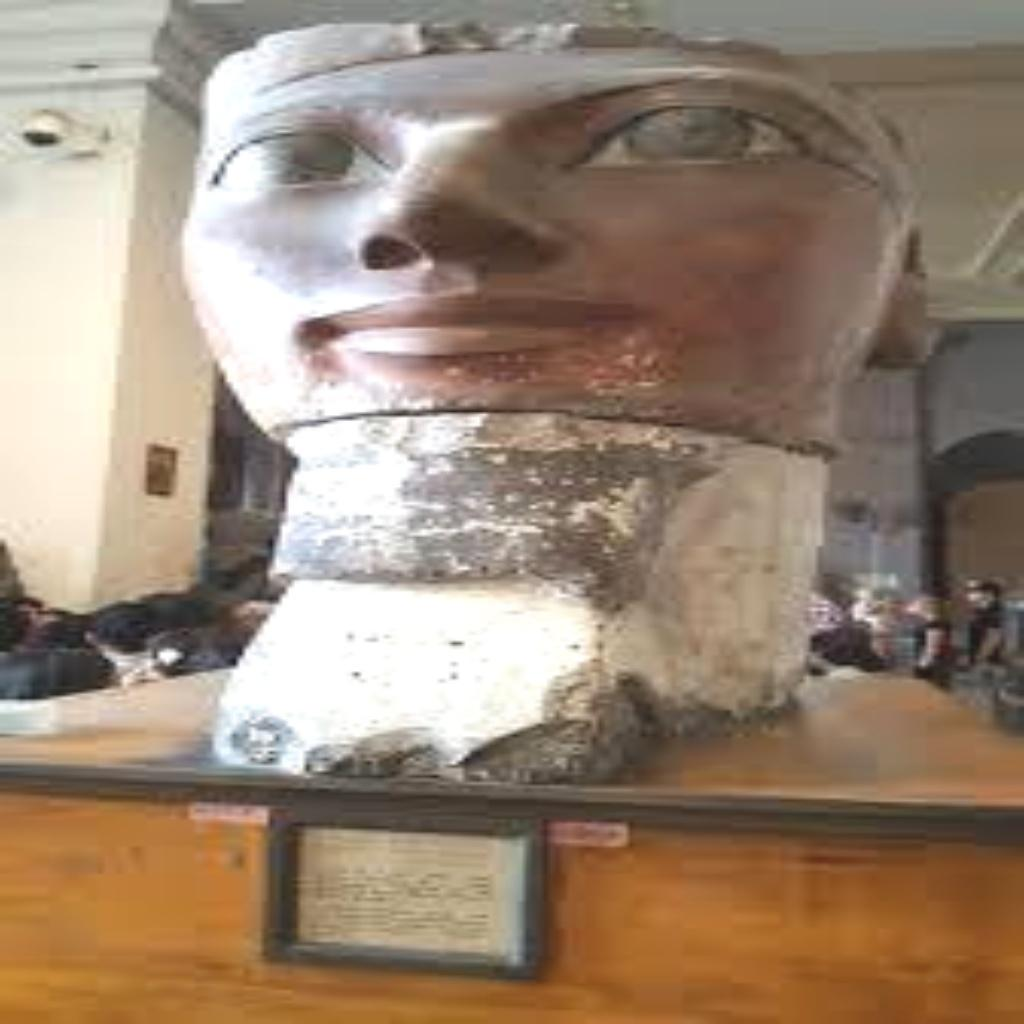Hatshepsut face: (173, 11, 943, 785)
